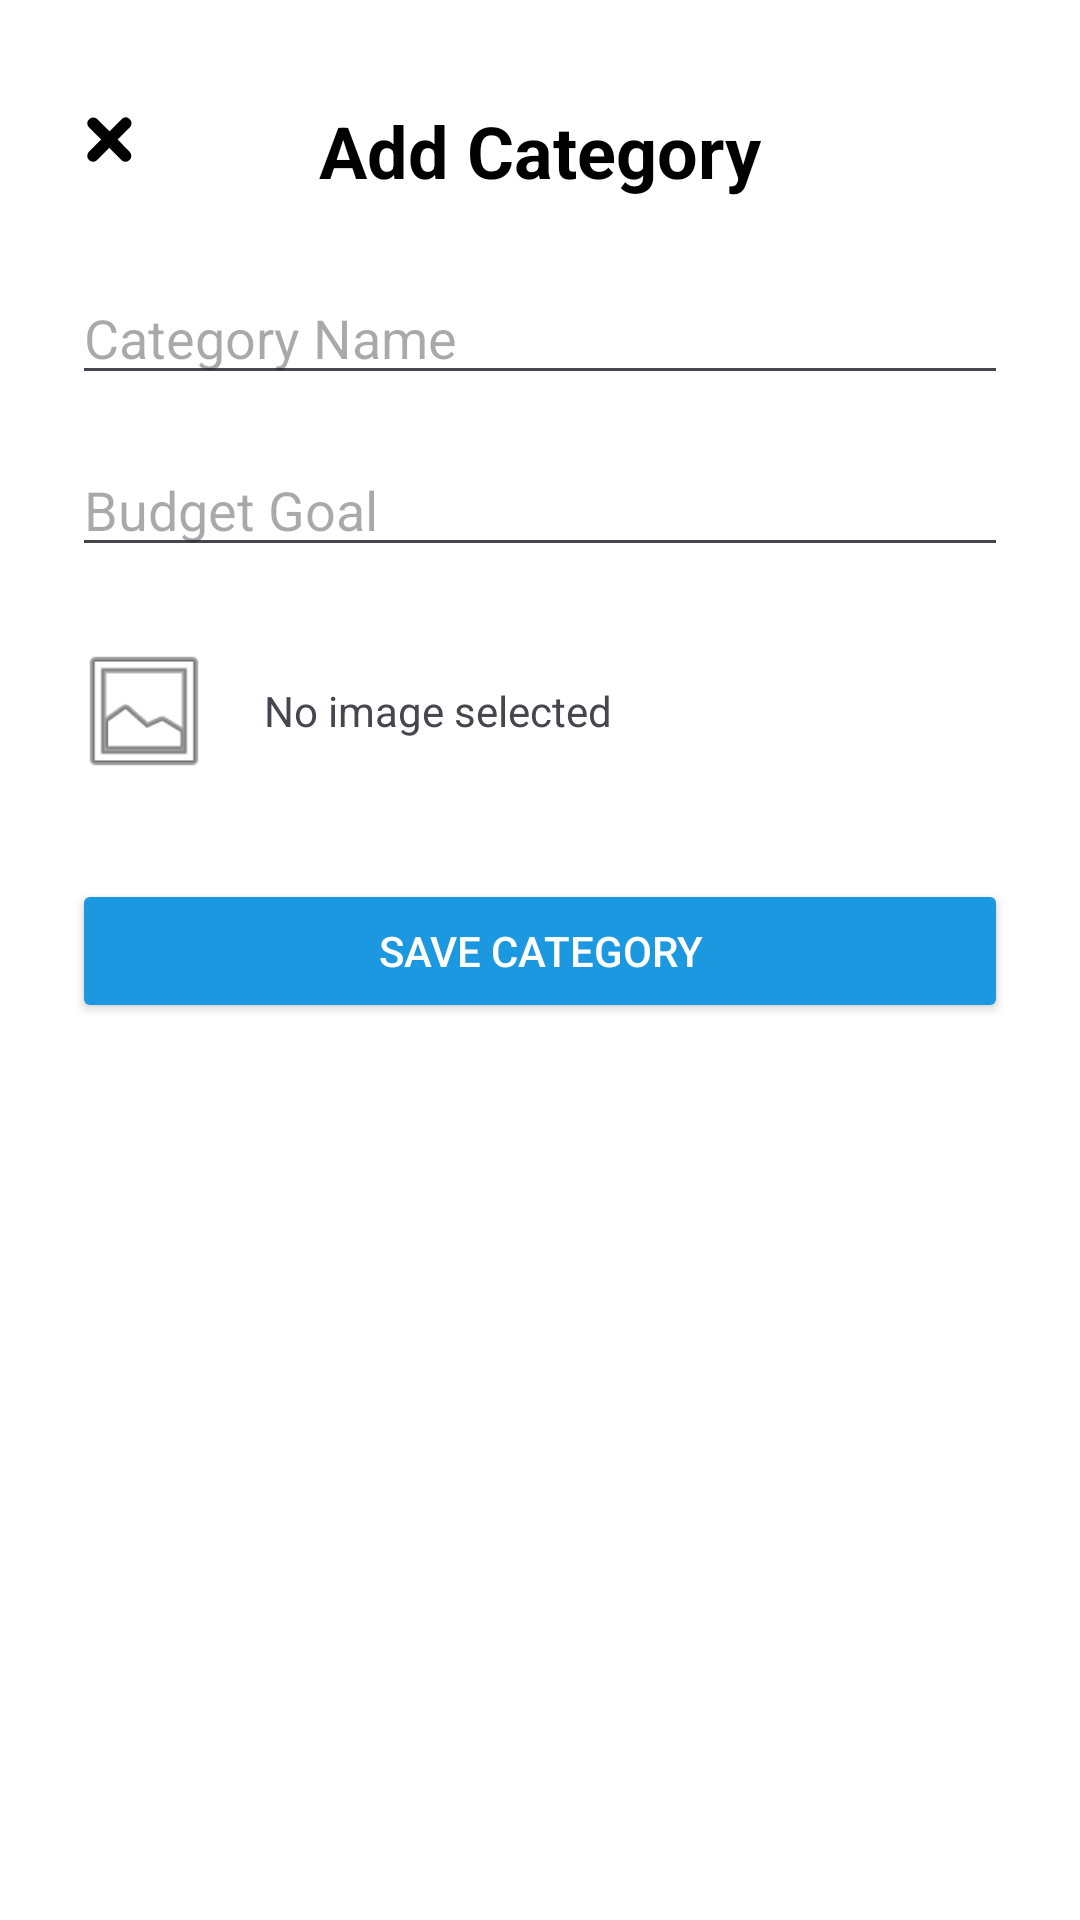

Icons on this 1080×1920 Android screen, each with its box as (x1, y1, x2, y2):
Pick Image: (90, 657, 198, 765)
